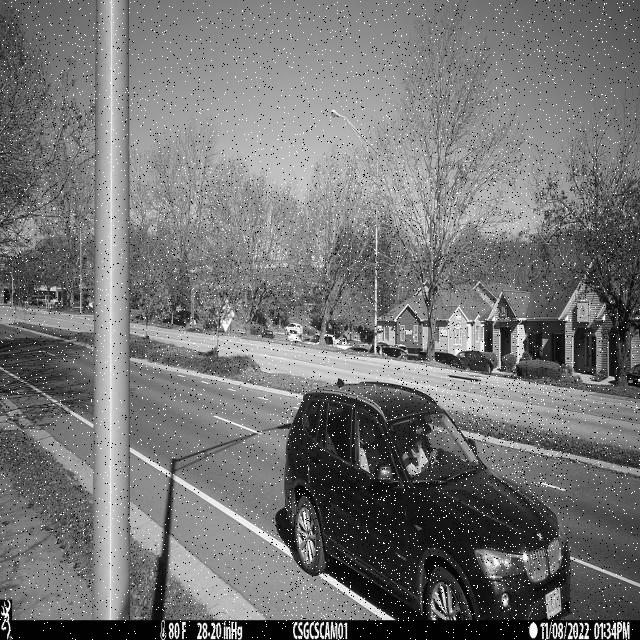SUV: (285, 381, 571, 621)
